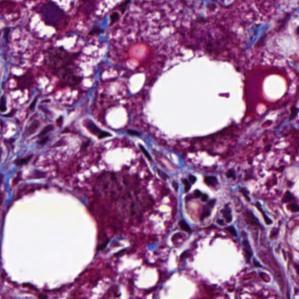inflammation: (166, 164, 293, 235), (11, 99, 117, 171)
